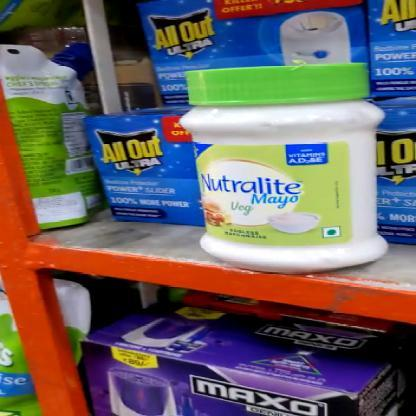Nutralite VEG MAYO 300g-275g-25g-: (190, 66, 384, 272)
